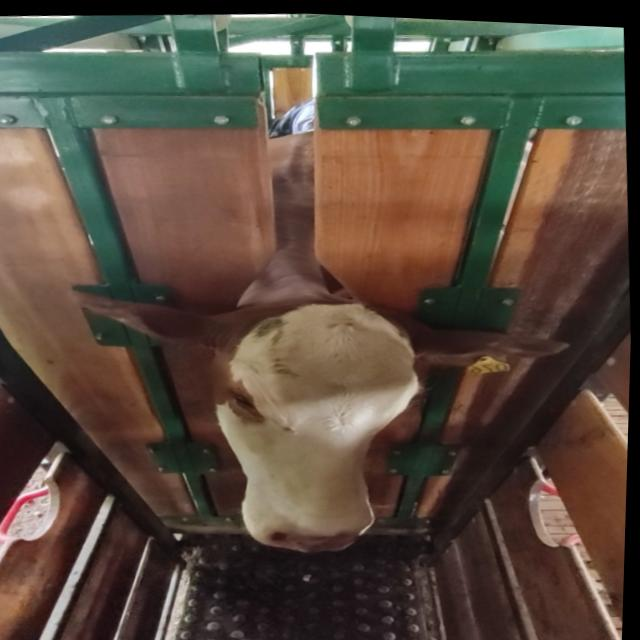cowFace: (205, 286, 434, 554)
